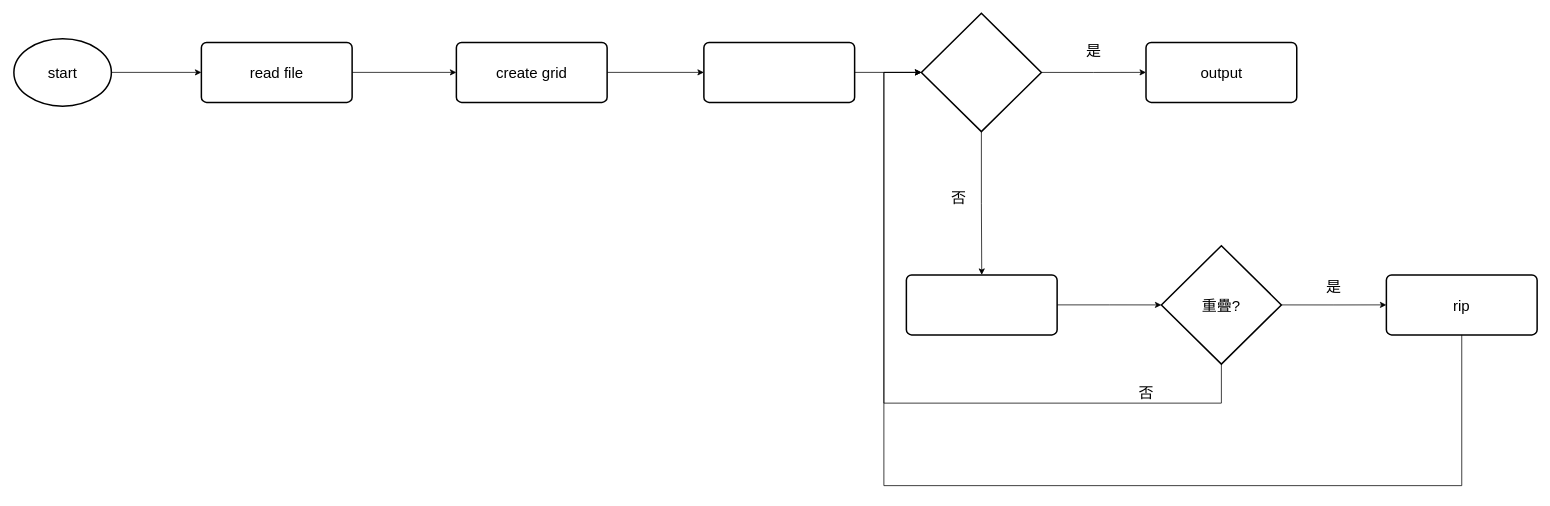
Image size: 1550x506. Some labels were removed from this diagram. The shapes that lost their labels are listed below. From the top down, each one's centre as x and y in pixels, then its label:
the point at 779,72: sort routing order
the point at 981,72: S,T都連完了?
the point at 981,304: route
